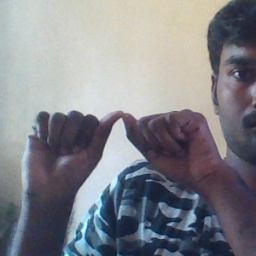A: (21, 105, 213, 194)
